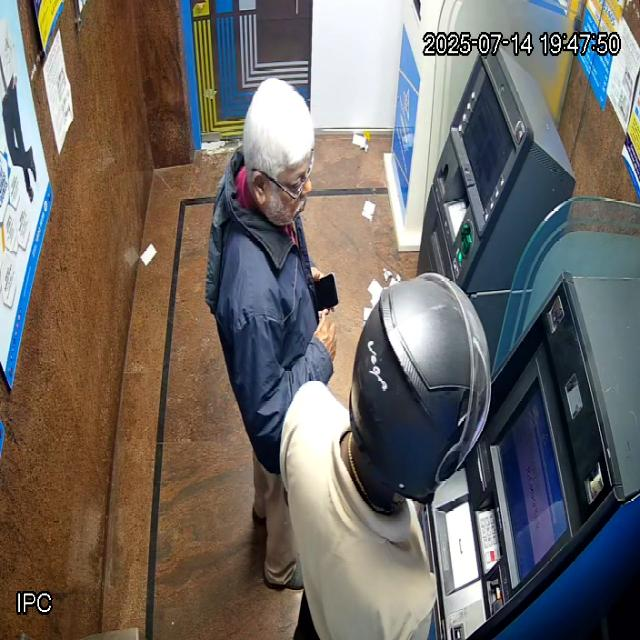helmet: (342, 271, 492, 516)
no_helmet: (242, 76, 315, 227)
